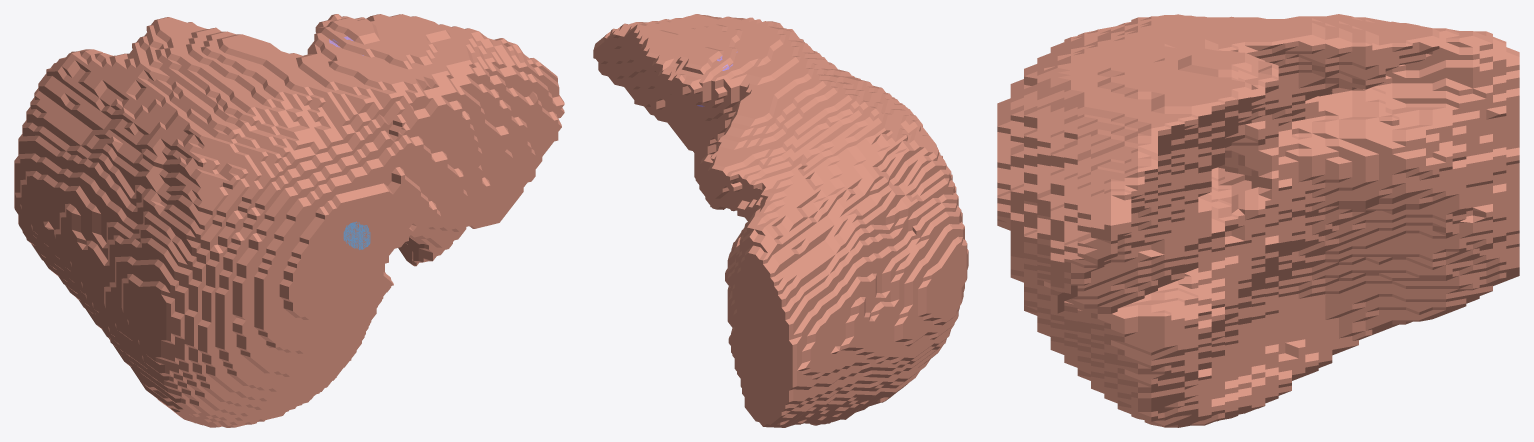
The model's file is liver_core_aug.glb.
3 views of the same model, side by side, from view 1: azimuth 30°, elevation 25°; view 2: azimuth 150°, elevation 25°; view 3: azimuth 270°, elevation 25° (orthographic). The views are drawn at different scales.
Parts seen in each view (by area): view 1: Liver_Shell, Lesion_L02; view 2: Liver_Shell; view 3: Liver_Shell.
Part boxes in pixels (x1,y1,x2,y2): Liver_Shell: (14, 14, 564, 427); Lesion_L02: (343, 221, 370, 249); Liver_Shell: (593, 14, 968, 427); Liver_Shell: (997, 14, 1519, 427).
Size of the model in its own units: 191 by 162 by 176.
